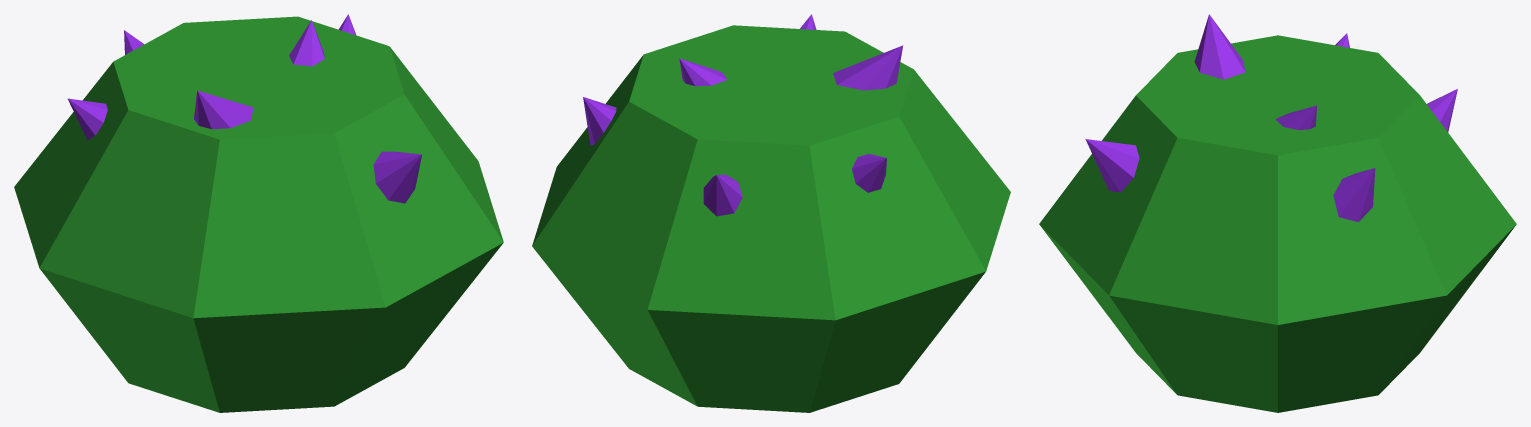
Rendered from lavender.fbx.
3 views of the same model, side by side, from view 1: azimuth 30°, elevation 25°; view 2: azimuth 150°, elevation 25°; view 3: azimuth 270°, elevation 25° (orthographic). The views are drawn at different scales.
Visible parts, largest first — view 1: Cylinder, Cone.005, Cone, Cone.003, Cone.001; view 2: Cylinder, Cone, Cone.004, Cone.003, Cone.002, Cone.001; view 3: Cylinder, Cone, Cone.005, Cone.002, Cone.001, Cone.004.
Part boxes in pixels (x1,y1,x2,y2): Cylinder: (14, 16, 503, 412); Cone.005: (373, 151, 421, 203); Cone: (194, 90, 253, 129); Cone.003: (67, 98, 107, 140); Cone.001: (289, 20, 324, 66); Cylinder: (532, 25, 1010, 412); Cone: (833, 45, 903, 90); Cone.004: (703, 174, 742, 216); Cone.003: (852, 154, 886, 192); Cone.002: (583, 97, 616, 145); Cone.001: (679, 58, 727, 86); Cylinder: (1039, 35, 1516, 412); Cone: (1194, 14, 1245, 79); Cone.005: (1085, 139, 1139, 192); Cone.002: (1333, 168, 1375, 221); Cone.001: (1275, 105, 1316, 129); Cone.004: (1427, 89, 1457, 132).
Size of the model in its own units: 2 by 1.36 by 2.
